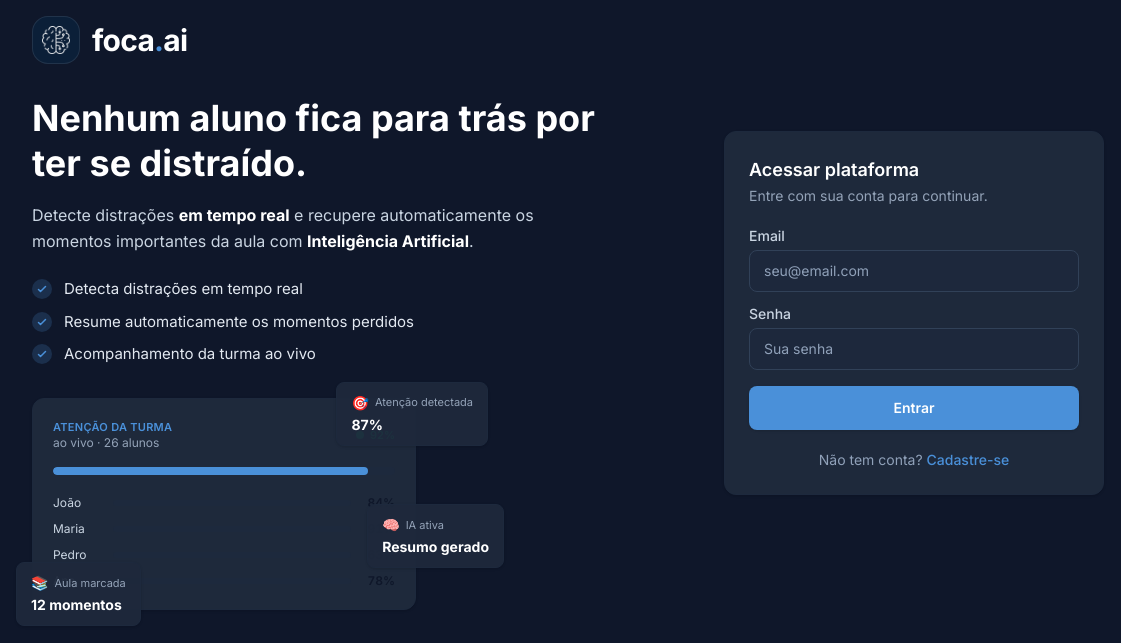
sessão expirada no meio do uso (#45) › CA2: credencial errada no login mostra o erro do login, não o aviso de sessão
In the field labelled "Email": (914, 271) [749,250,1079,292], type "ana@example.test"
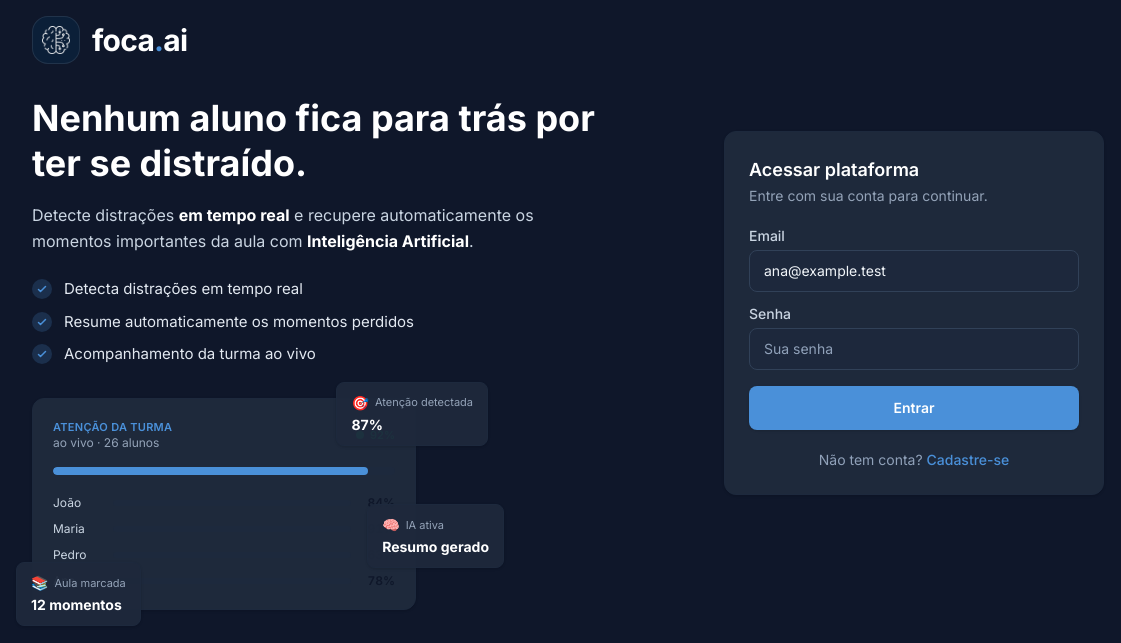
In the password field labelled "Senha": (914, 349) [749,328,1079,370], type "errada"
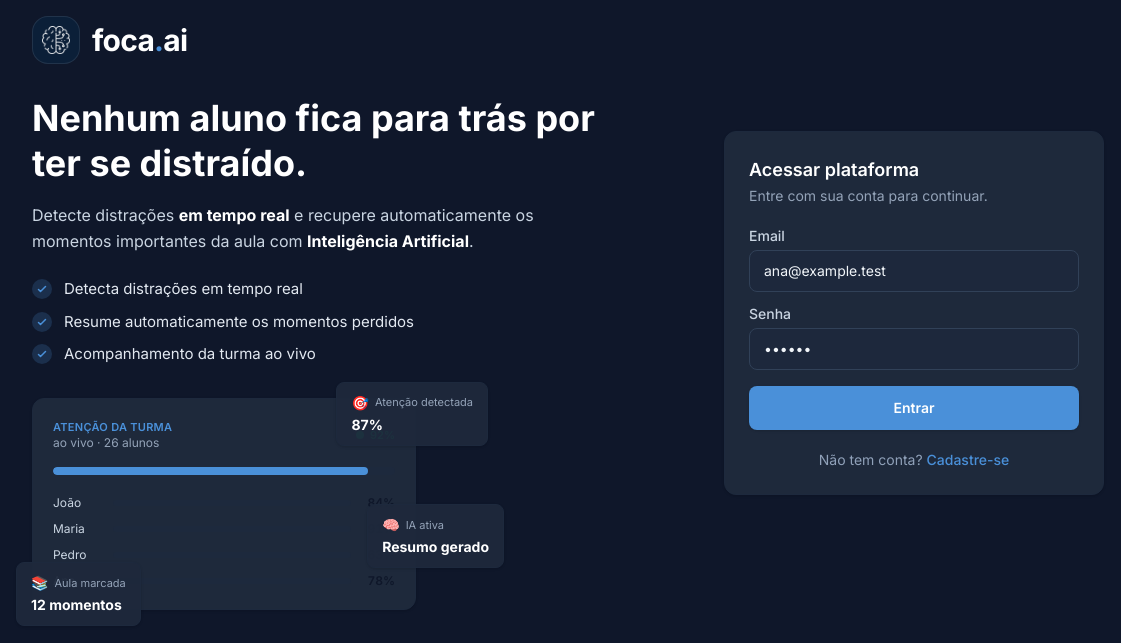
Submit the form, box [749,226,1079,430]
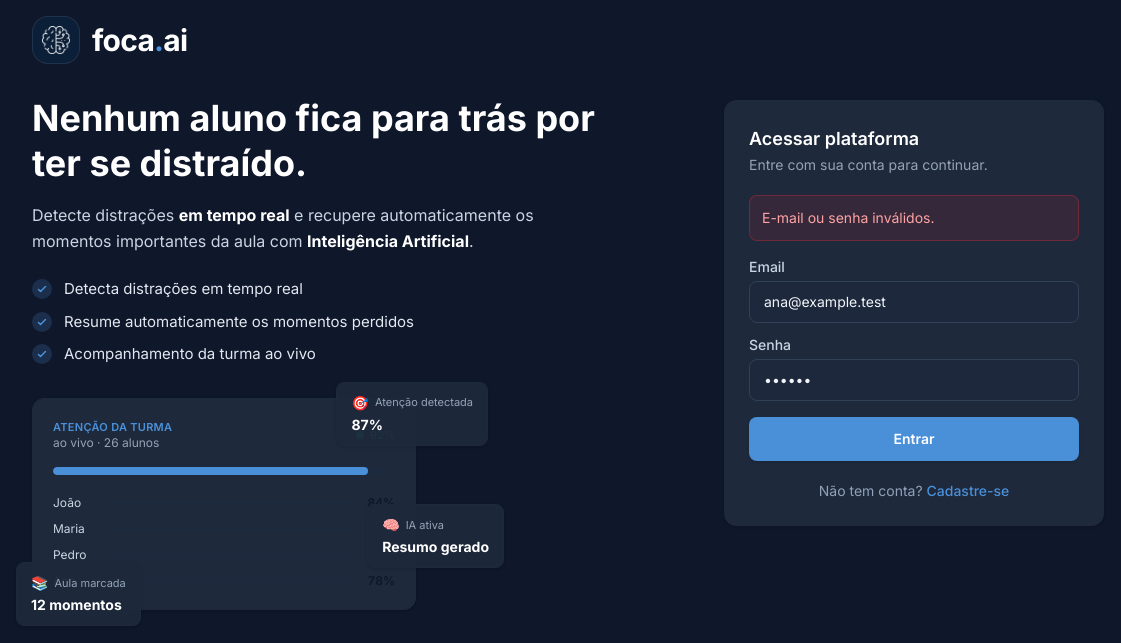
Check: the text "E-mail ou senha inválidos." is shown, box [749,195,1079,241]
